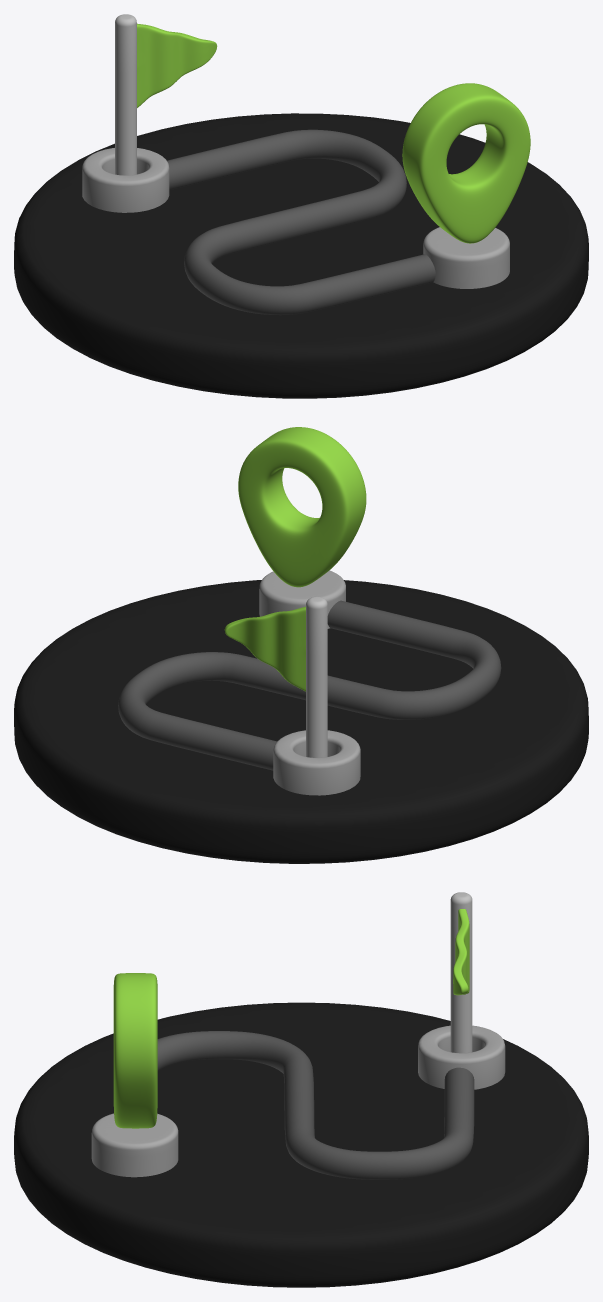
The model's file is ride-history-animated-3d-icon-8822859803.glb.
The picture shows the model from 3 angles, top to bottom: view 1: azimuth 30°, elevation 25°; view 2: azimuth 150°, elevation 25°; view 3: azimuth 270°, elevation 25°; orthographic projection.
Visible parts, largest first — view 1: Base 1, Path, Circle.003, Start, End, Flag.001, Stick.001; view 2: Base 1, Path, Circle.003, Start, Flag.001, Stick.001, End; view 3: Base 1, Path, Circle.003, End, Start, Stick.001, Flag.001.
Boxes of the visible parts, x1,y1,x2,y2 form: Base 1: (14, 113, 588, 398); Path: (167, 129, 435, 315); Circle.003: (402, 83, 530, 243); Start: (82, 148, 169, 212); End: (423, 227, 509, 288); Flag.001: (137, 23, 217, 107); Stick.001: (115, 14, 136, 175); Base 1: (14, 580, 588, 863); Path: (118, 600, 501, 770); Circle.003: (238, 427, 366, 587); Start: (273, 730, 360, 795); Flag.001: (224, 606, 305, 691); Stick.001: (306, 596, 327, 757); End: (259, 570, 345, 628); Base 1: (14, 1002, 588, 1287); Path: (157, 1031, 474, 1179); Circle.003: (113, 973, 157, 1128); End: (91, 1113, 178, 1177); Start: (418, 1025, 505, 1089); Stick.001: (450, 892, 472, 1053); Flag.001: (453, 909, 469, 995).
Size of what is drawn, in the model's own units: 1.99 by 0.8867 by 1.99.
